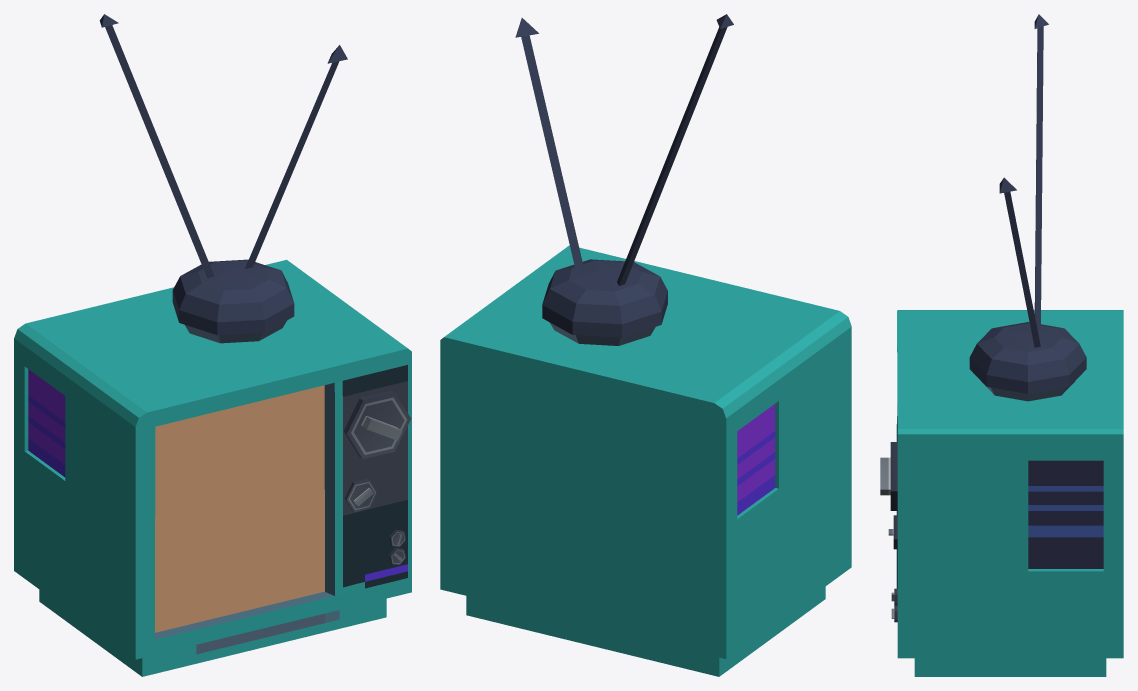
File: Prop_TV09.fbx
3 views of the same model, side by side, from view 1: azimuth 30°, elevation 25°; view 2: azimuth 150°, elevation 25°; view 3: azimuth 270°, elevation 25° (orthographic). The views are drawn at different scales.
Visible parts, largest first — view 1: Cube.436; view 2: Cube.436; view 3: Cube.436.
Boxes of the visible parts, x1,y1,x2,y2 form: Cube.436: (14,14,411,676); Cube.436: (440,14,851,676); Cube.436: (880,14,1123,676).
Size of the model in its own units: 43.58 by 91.47 by 35.66.
